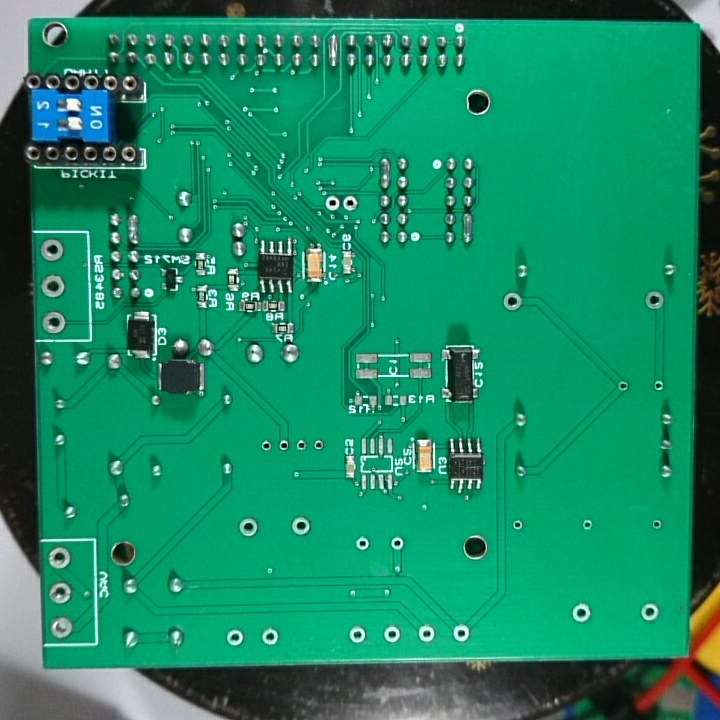F: (38, 273, 69, 300), (37, 237, 67, 264), (47, 615, 77, 640), (39, 311, 69, 335), (642, 287, 668, 313), (258, 624, 283, 651), (45, 546, 72, 571), (46, 581, 75, 604), (637, 600, 664, 623), (569, 602, 595, 624), (236, 517, 263, 538), (223, 627, 247, 649), (501, 290, 524, 312), (290, 514, 312, 537), (415, 623, 437, 645), (381, 624, 403, 646), (346, 623, 369, 644), (451, 622, 472, 644), (341, 192, 359, 214), (324, 193, 341, 214), (293, 436, 309, 455), (579, 516, 596, 533), (353, 535, 370, 552), (387, 535, 405, 551), (312, 436, 327, 455), (650, 517, 666, 534), (510, 516, 526, 533), (274, 439, 293, 453), (650, 377, 667, 392), (616, 378, 631, 394), (259, 440, 273, 455)
P: (125, 211, 144, 246), (459, 209, 477, 244), (377, 153, 393, 191), (326, 34, 340, 69)
